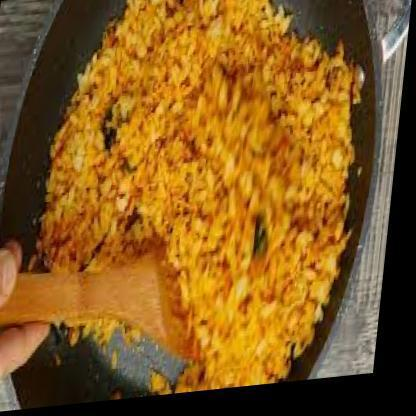poha: (28, 0, 378, 411)
